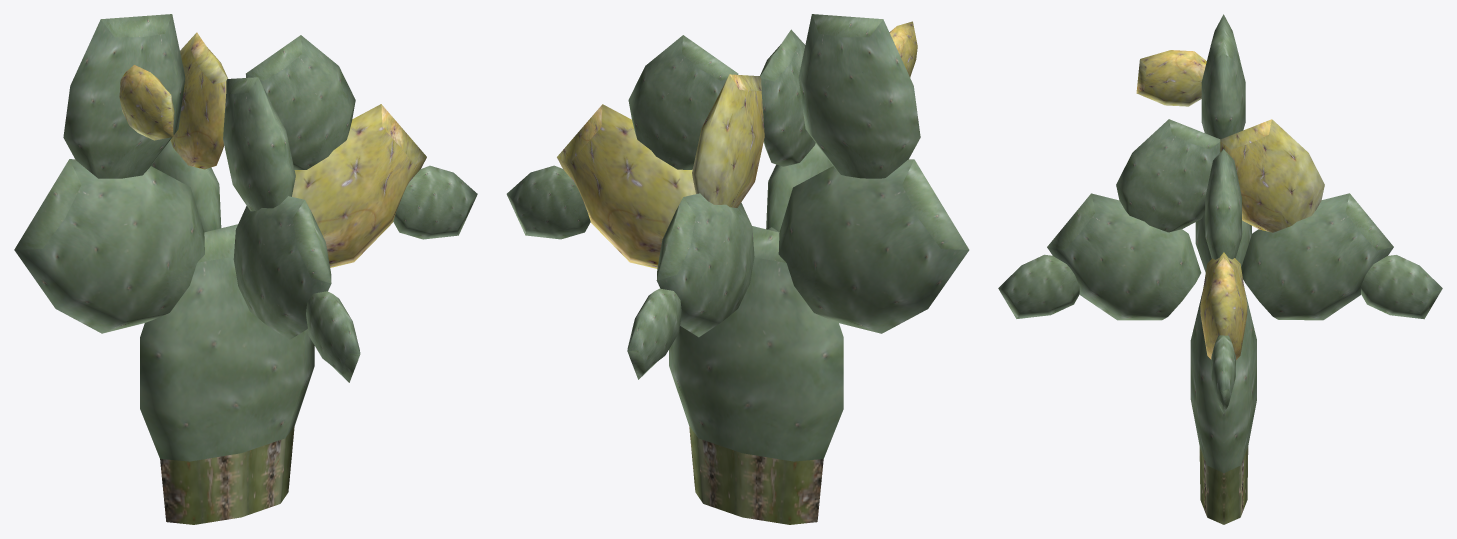
The model's file is nopal_a.dae.
The picture shows the model from 3 angles, left to right: view 1: azimuth 30°, elevation 25°; view 2: azimuth 150°, elevation 25°; view 3: azimuth 270°, elevation 25°; orthographic projection. The views are drawn at different scales.
Visible parts, largest first — view 1: Circle.001; view 2: Circle.001; view 3: Circle.001.
Part boxes in pixels (x1,y1,x2,y2): Circle.001: [14, 14, 477, 524]; Circle.001: [506, 14, 969, 524]; Circle.001: [998, 14, 1442, 524].
Size of the model in its own units: 5.08 by 5.05 by 5.44.
